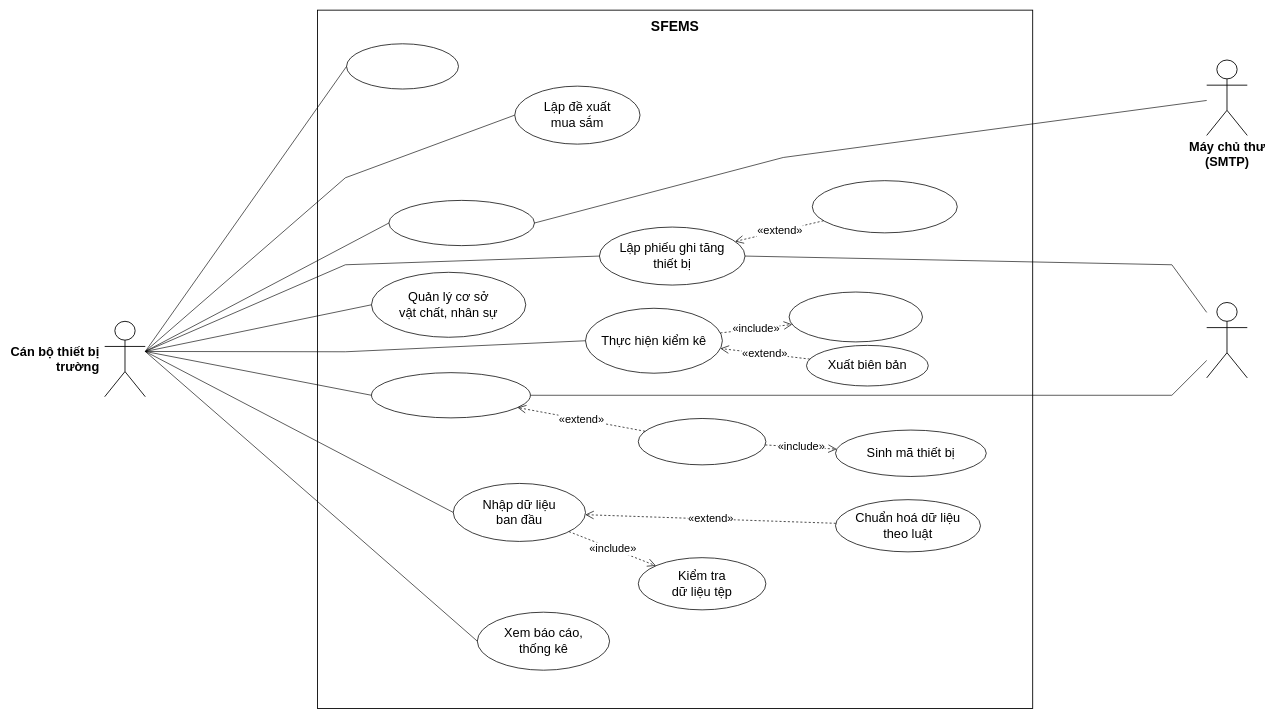
The diagram is 1275 pixels wide and 719 high, and some of its shapes have lost their labels. Each missing label, with the centre of its shape:
Cấp mã chuẩn: (702,441)
Ghi kết quả kiểm đếm: (855,316)
Lập từ kế hoạch mua sắm: (884,206)
MinIO: (1226,340)
Nhận thông báo: (461,223)
Quản lý thiết bị: (451,395)
Đăng nhập: (402,66)
